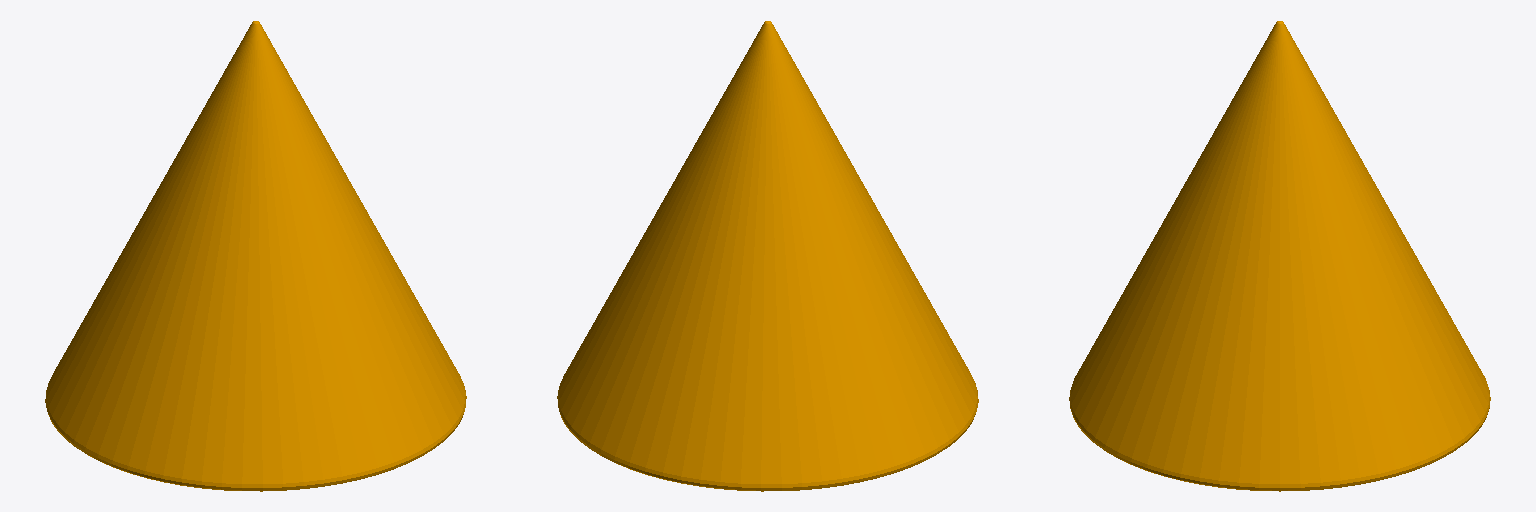
robot.urdf — cone:

<robot name="cone">
    <link name="base">
        <inertial>
            <origin xyz="-0.0 -0.0 -0.0" />
            <mass value="0.4774" />
            <inertia ixx="0.0534" ixy="-0.0" 
                     ixz="-0.0" iyy="0.0534" 
                     iyz="-0.0" izz="0.0533" />
        </inertial>
        <visual>
            <origin xyz="0 0 0" />
            <geometry>
                <mesh filename="visual_geometry.obj" />
            </geometry>
        </visual>
        <collision>
            <origin xyz="0 0 0" />
            <geometry>
                <mesh filename="collision_geometry.obj" />
            </geometry>
        </collision>
    </link>
</robot>

--- Render facts (derived) ---
3 views of the same robot in one strip: view 1: azimuth 30°, elevation 25°; view 2: azimuth 150°, elevation 25°; view 3: azimuth 270°, elevation 25° (orthographic).
Model cone with 1 links and 0 joints (none), rooted at base, posed every joint at zero.
Visible links, largest first — view 1: base; view 2: base; view 3: base.
Boxes of the visible links, x1=… form: base: x1=45, y1=21, x2=466, y2=491; base: x1=557, y1=21, x2=978, y2=491; base: x1=1069, y1=21, x2=1490, y2=491.
Size in the robot's own frame: 1.2 by 1.2 by 1.21 metres.
Meshes: 1 distinct files referenced, 1 mesh visuals loaded (1 OBJ).